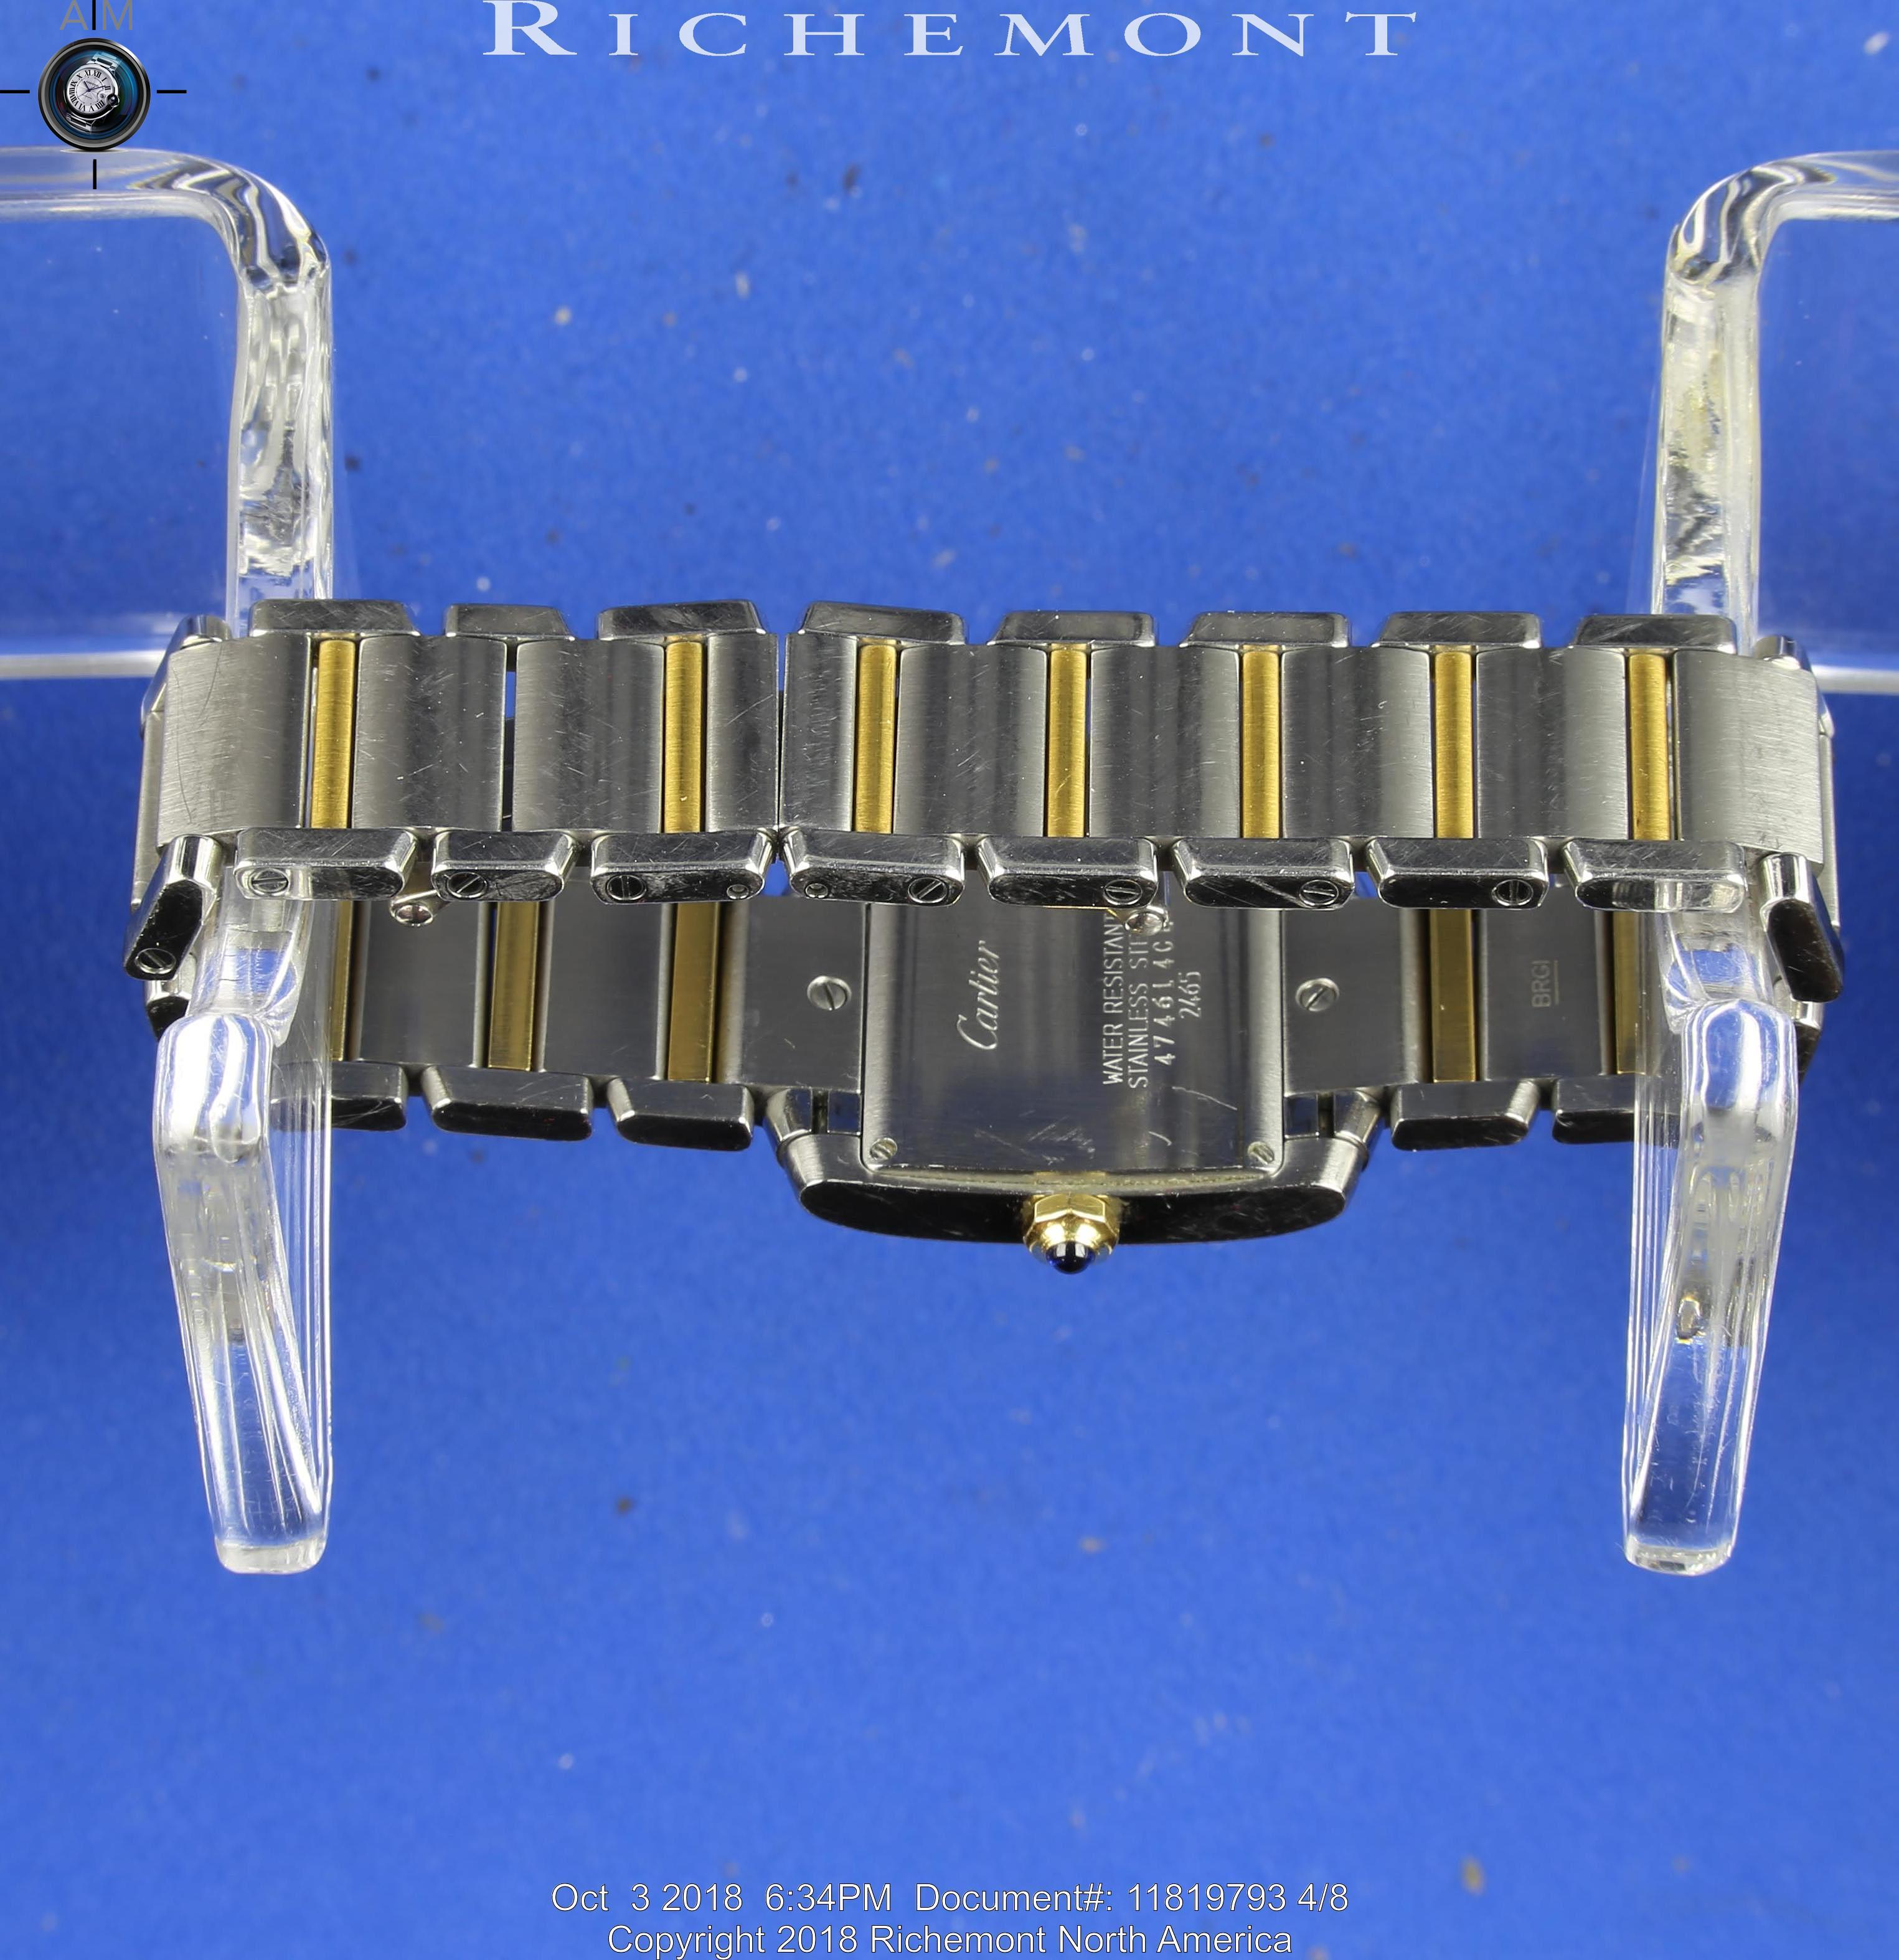watchback: (809, 857, 1358, 1220)
